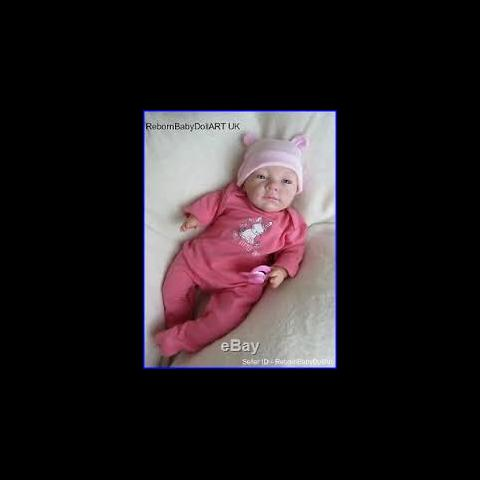opened: (252, 164, 300, 193)
